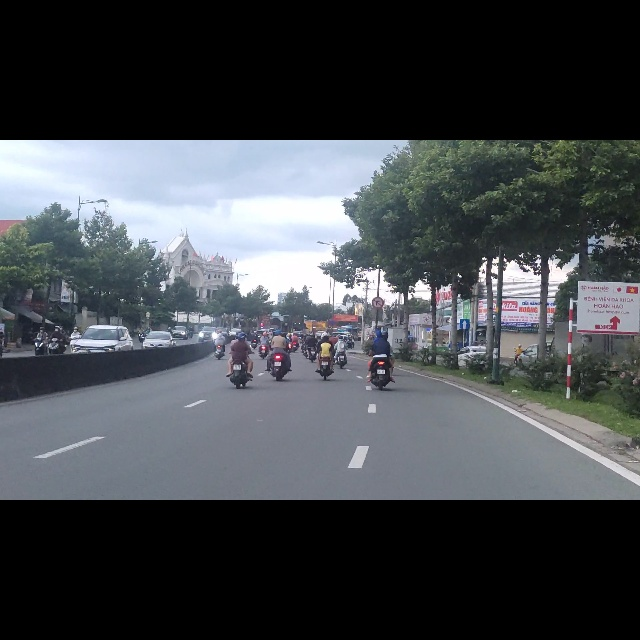bien_cam: (372, 279, 384, 300), (460, 318, 470, 337)
